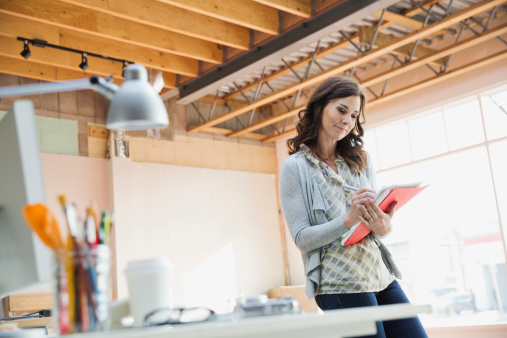em pe: (279, 79, 414, 338)
